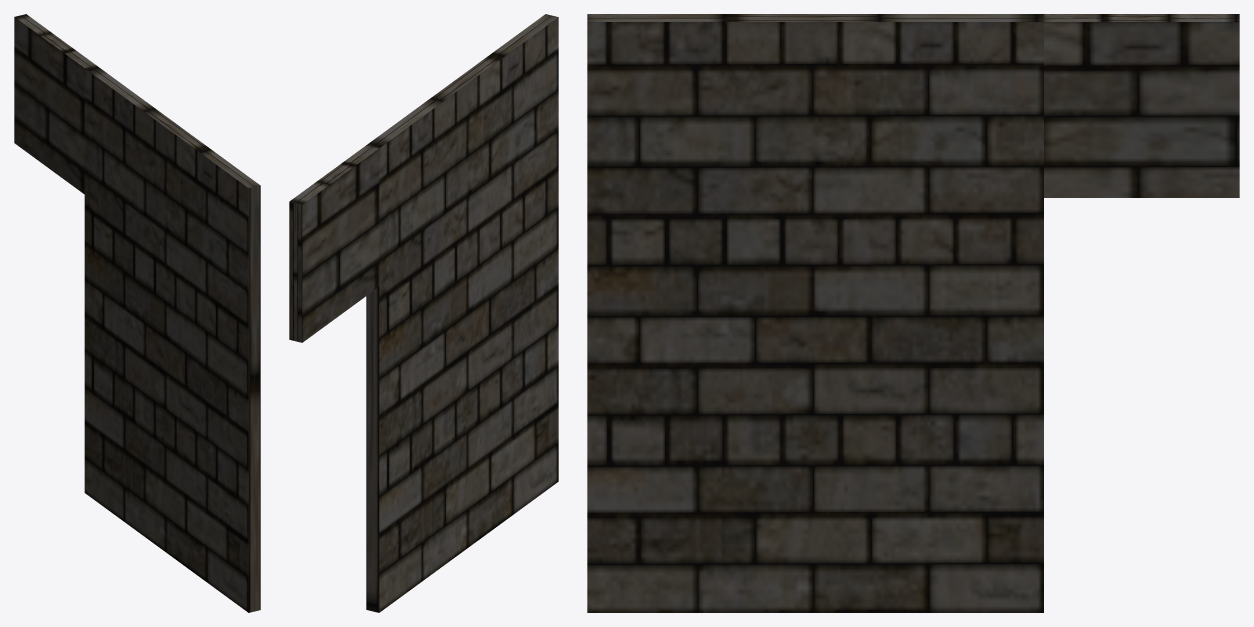
File: PrisonDoorway.fbx
3 views of the same model, side by side, from view 1: azimuth 30°, elevation 25°; view 2: azimuth 150°, elevation 25°; view 3: azimuth 270°, elevation 25° (orthographic). The views are drawn at different scales.
Parts seen in each view (by area): view 1: Cube, Cube.001; view 2: Cube, Cube.001; view 3: Cube, Cube.001.
Part boxes in pixels (left/top/right/bottom): Cube: left=84, top=65, right=260, bottom=612; Cube.001: left=14, top=14, right=96, bottom=194; Cube: left=366, top=14, right=558, bottom=612; Cube.001: left=289, top=145, right=379, bottom=342; Cube: left=587, top=14, right=1043, bottom=612; Cube.001: left=1044, top=14, right=1239, bottom=197.
Size of the model in its own units: 17.5 by 600 by 600.
